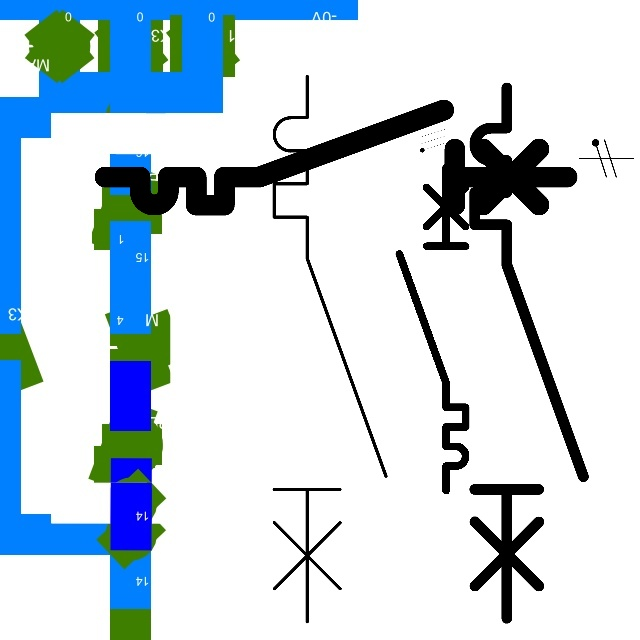interruptor_termomagnetico: (260, 62, 400, 636), (461, 74, 597, 632), (93, 98, 579, 217), (391, 159, 474, 498)
